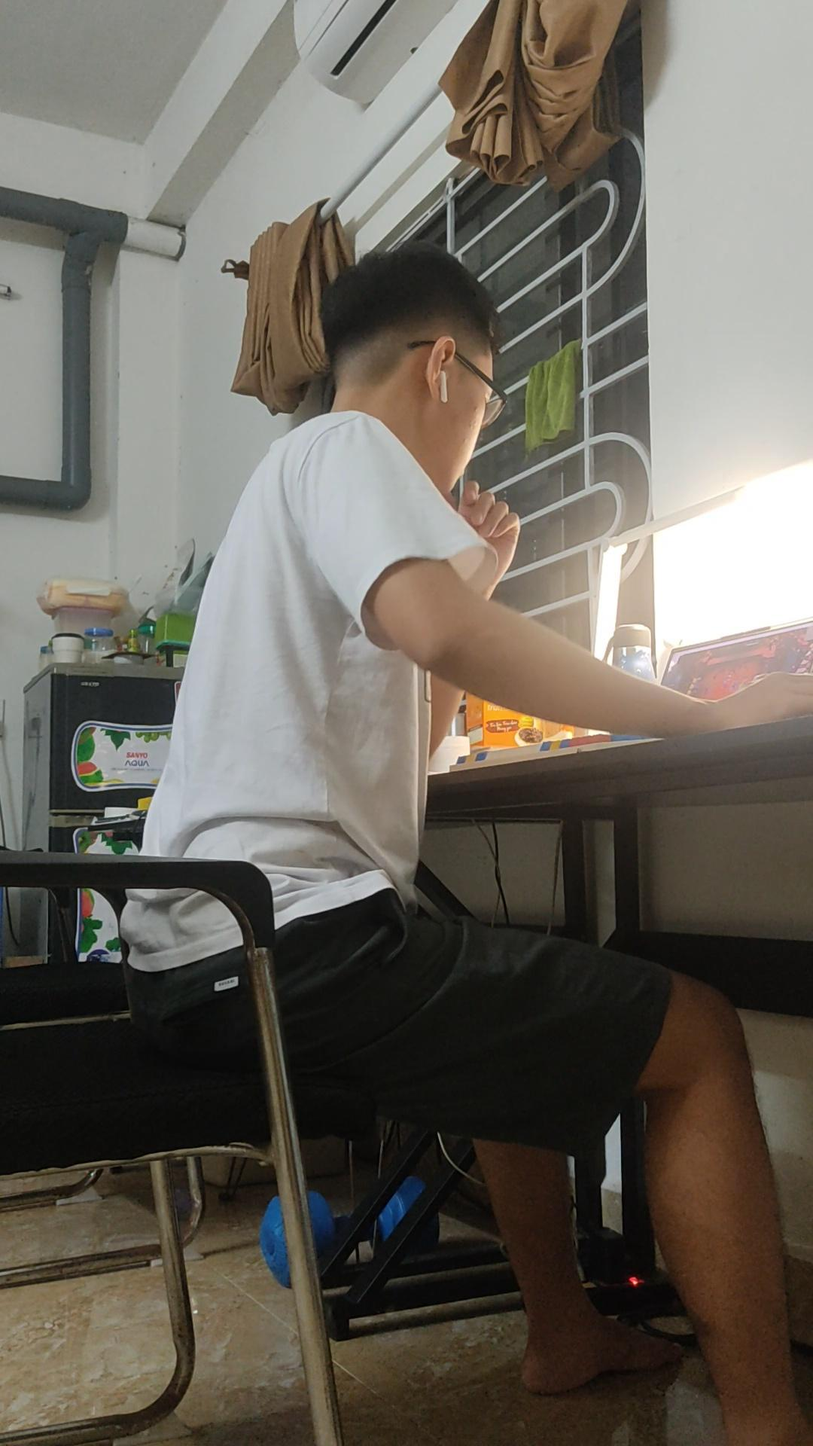GoodPosture: (143, 246, 812, 1445)
